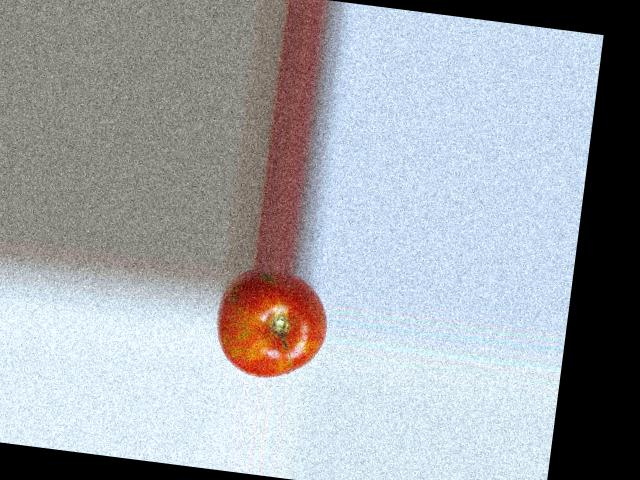tomato: (210, 265, 333, 384)
